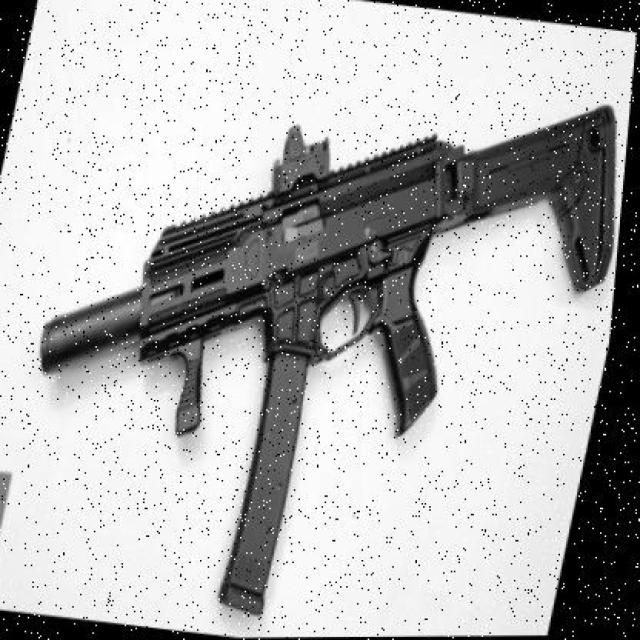weapon: (37, 102, 618, 616)
